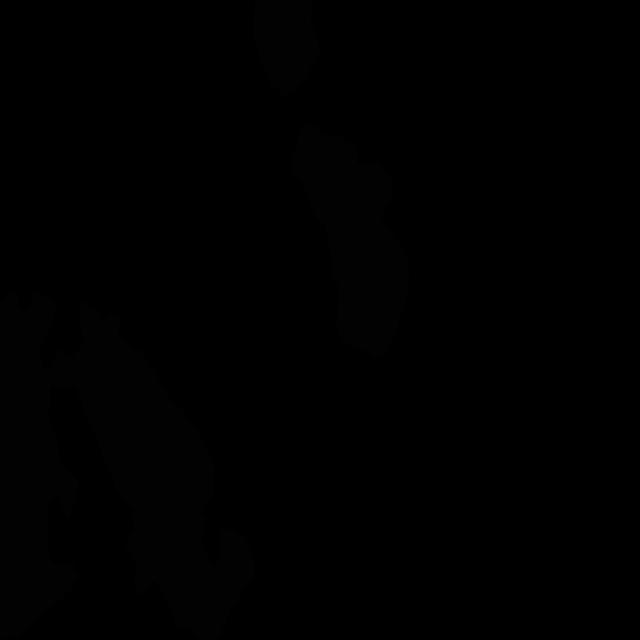cardboard: (68, 298, 255, 640), (0, 291, 82, 639), (290, 122, 409, 357), (252, 0, 320, 99)
